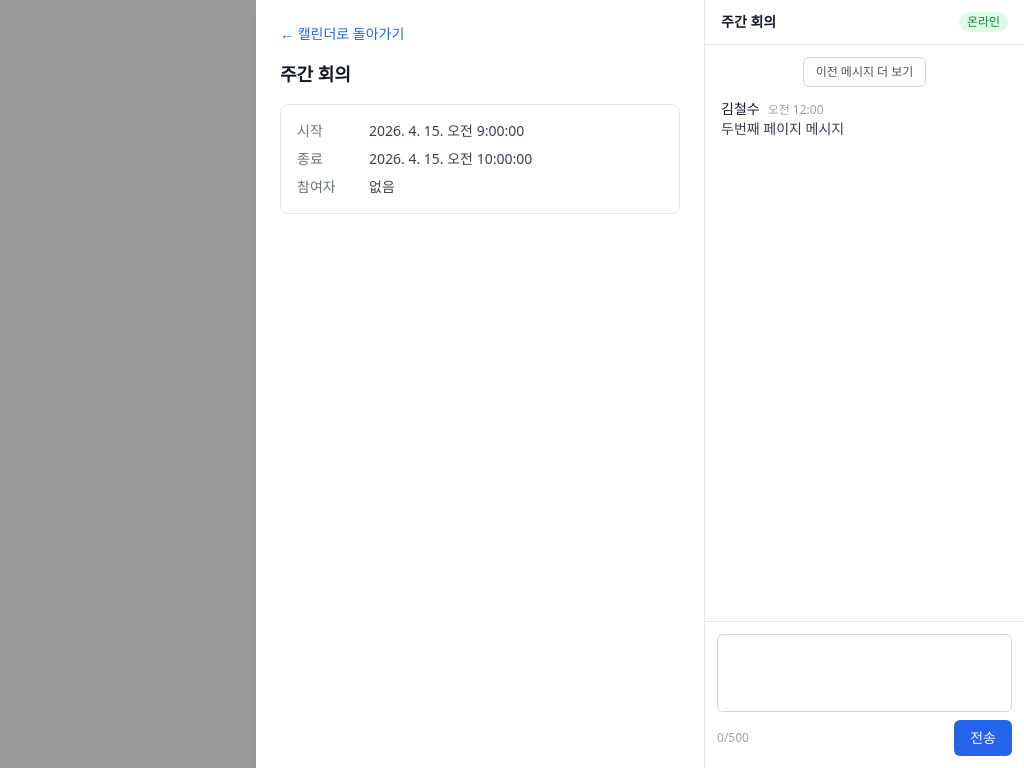
Test case: ScheduleChatPanel - 채팅 이력 조회 › 더보기 버튼 클릭 시 다음 페이지를 조회해 기존 목록 앞에 추가한다
The width and height of the screenshot is (1024, 768).
Expected: the text "두번째 페이지 메시지" is shown, [721,119,844,138]
Click the button "이전 메시지 더 보기": (865, 72) [803,57,926,87]
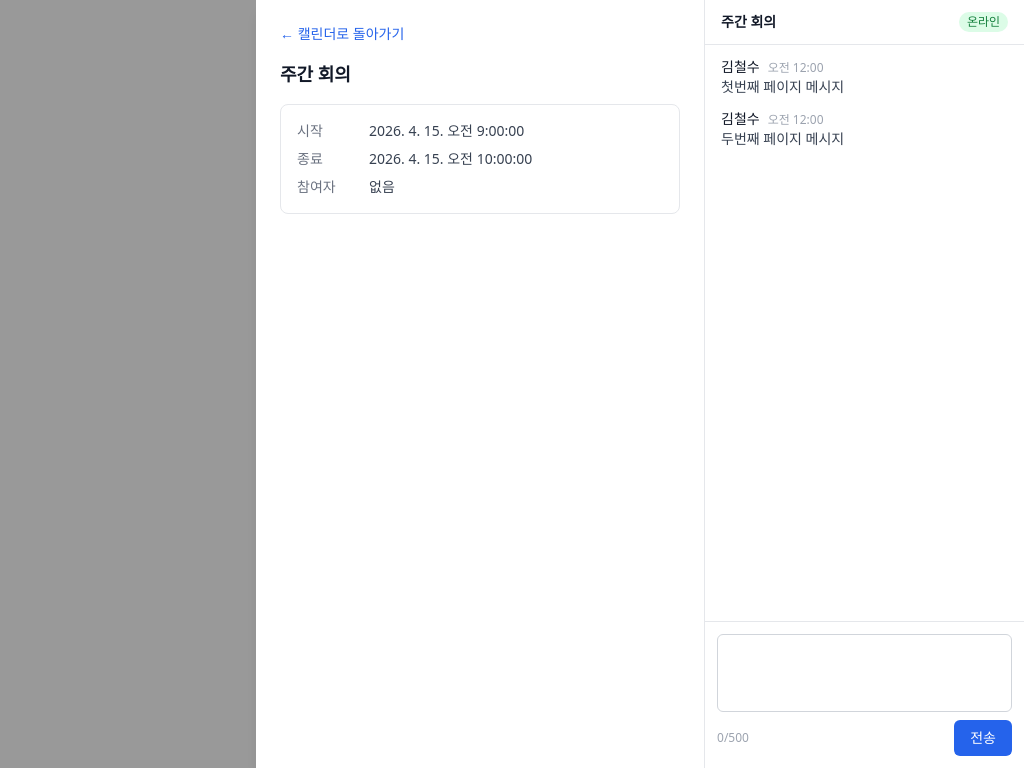
Now the text "첫번째 페이지 메시지" is shown, box [721,77,844,96]
